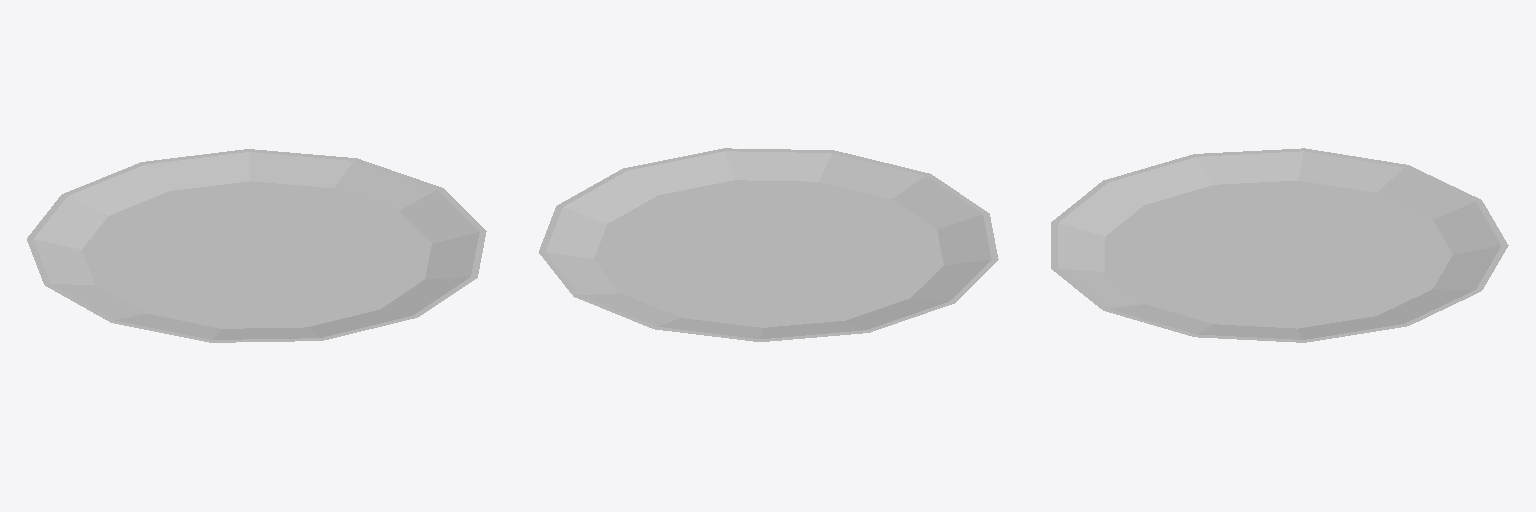
File: plate.obj
3 views of the same model, side by side, from view 1: azimuth 30°, elevation 25°; view 2: azimuth 150°, elevation 25°; view 3: azimuth 270°, elevation 25° (orthographic).
Visible parts, largest first — view 1: Cylinder; view 2: Cylinder; view 3: Cylinder.
Boxes of the visible parts, <box> form: Cylinder: <box>27,149,486,342</box>; Cylinder: <box>539,148,998,341</box>; Cylinder: <box>1051,148,1508,342</box>.
Bounding box in the file's own units: 3.11 × 0.1543 × 3.09.